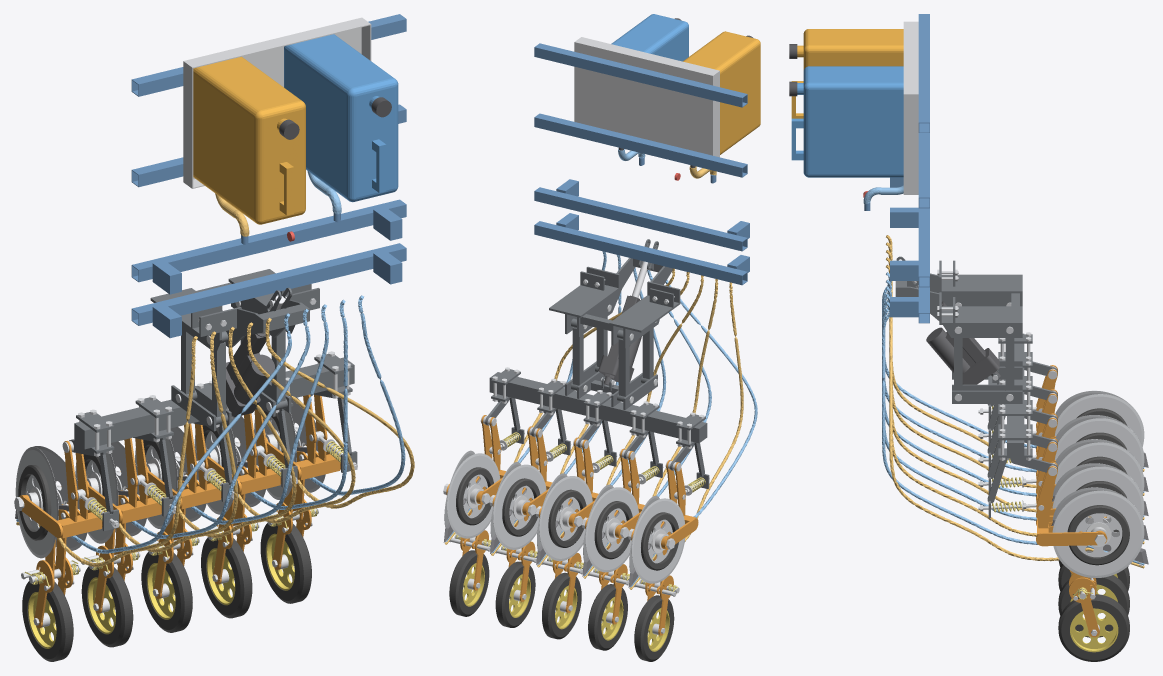
Rendered from work.glb.
The picture shows the model from 3 angles, left to right: view 1: azimuth 30°, elevation 25°; view 2: azimuth 150°, elevation 25°; view 3: azimuth 270°, elevation 25°; orthographic projection. The views are drawn at different scales.
Visible parts, largest first — view 1: frame; view 2: frame; view 3: frame.
Boxes of the visible parts, box(x1,y1,x2,y2) form: frame: box(14, 14, 414, 661); frame: box(443, 14, 760, 661); frame: box(789, 14, 1148, 661).
Size of the model in its own units: 0.9876 by 2.14 by 1.26.
